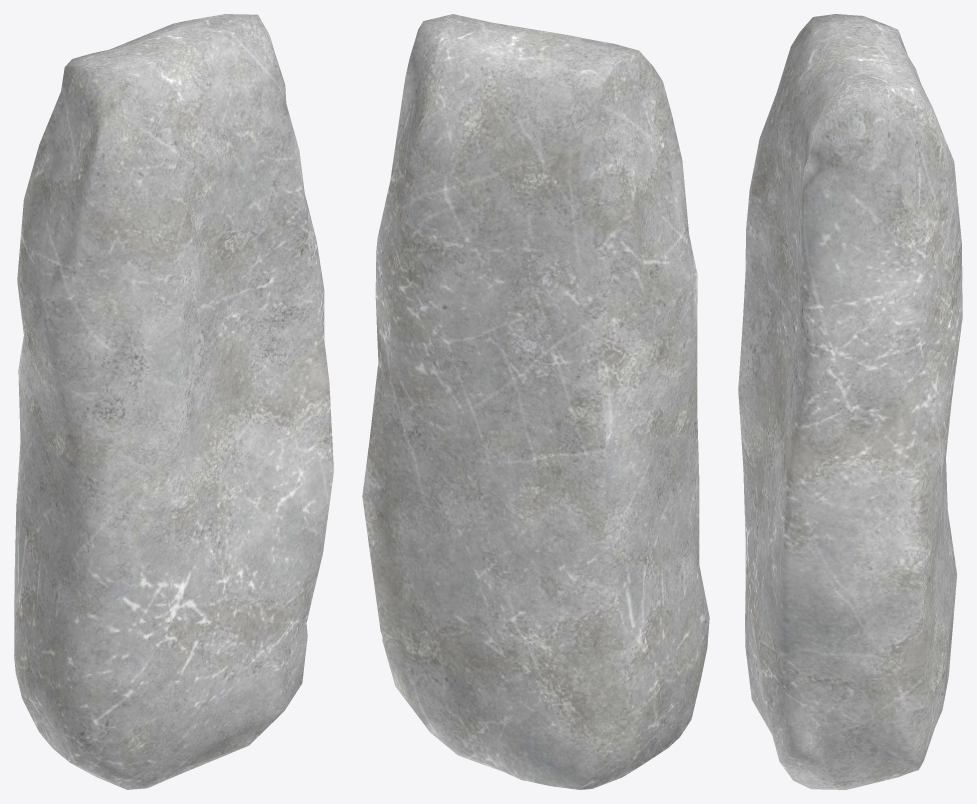
Rendered from Masso_02.FBX.
The picture shows the model from 3 angles, left to right: view 1: azimuth 30°, elevation 25°; view 2: azimuth 150°, elevation 25°; view 3: azimuth 270°, elevation 25°; orthographic projection. The views are drawn at different scales.
Visible parts, largest first — view 1: Masso_02; view 2: Masso_02; view 3: Masso_02.
Part boxes in pixels (bbox=[...]): Masso_02: bbox=[14, 14, 333, 789]; Masso_02: bbox=[362, 14, 709, 789]; Masso_02: bbox=[738, 14, 962, 789].
Bounding box in the file's own units: 1.7 × 4.04 × 1.14.
1 material, 1 textured.
